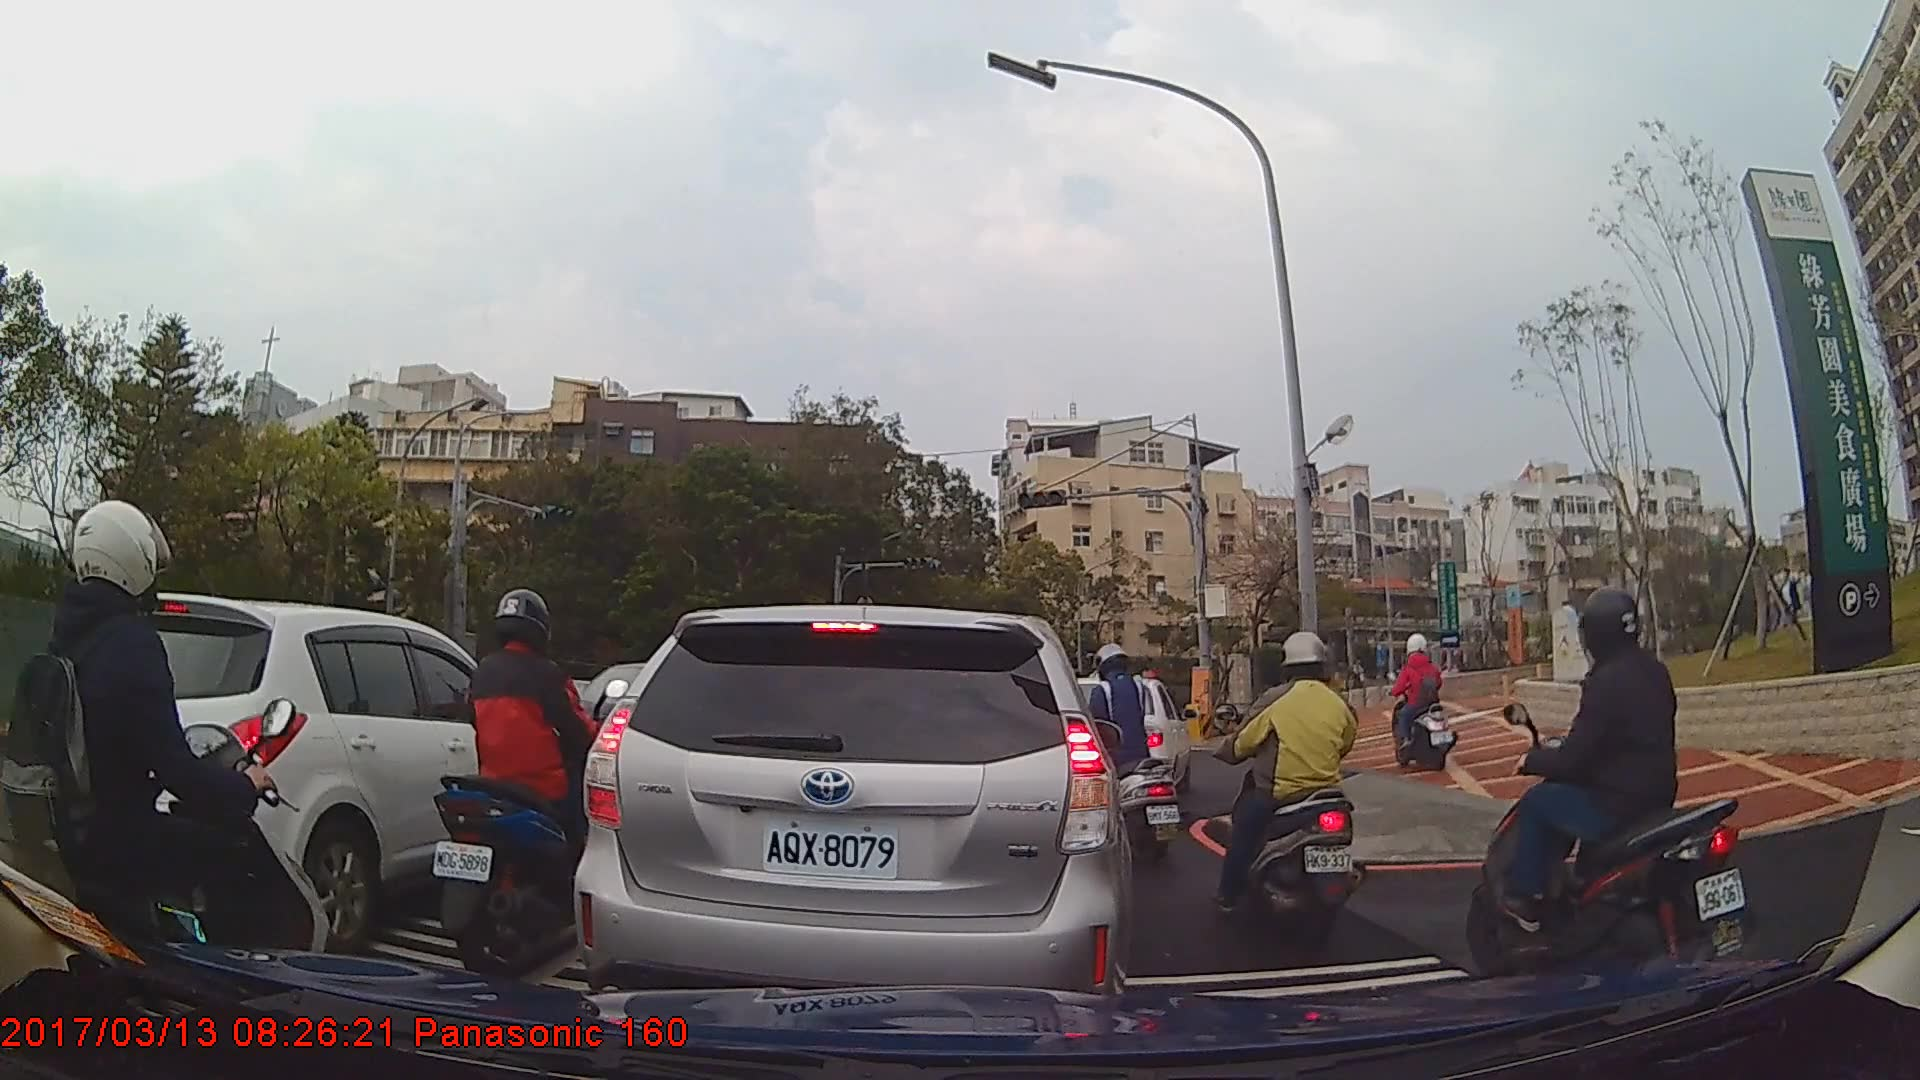pedestrian: (1766, 557, 1809, 631), (1760, 573, 1793, 636)
rider: (1, 492, 335, 1059), (1476, 581, 1758, 1006), (426, 583, 621, 971), (1205, 631, 1368, 929), (1067, 642, 1185, 861), (1383, 635, 1458, 771)
vehicle: (574, 604, 1132, 1022), (44, 591, 581, 943)
